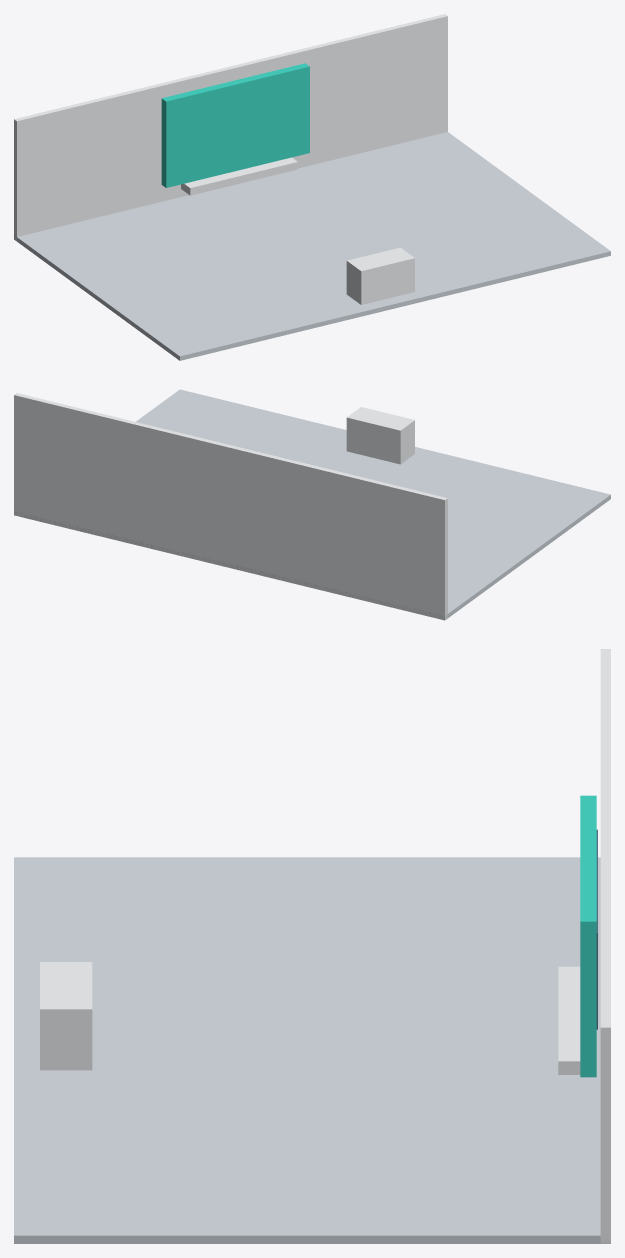
The picture shows the model from 3 angles, top to bottom: view 1: azimuth 30°, elevation 25°; view 2: azimuth 150°, elevation 25°; view 3: azimuth 270°, elevation 25°; orthographic projection. The views are drawn at different scales.
Parts seen in each view (by area): view 1: Exhibition Booth Concept; view 2: Exhibition Booth Concept; view 3: Exhibition Booth Concept.
Boxes of the visible parts, x1,y1,x2,y2 form: Exhibition Booth Concept: (14, 14, 610, 360); Exhibition Booth Concept: (14, 389, 610, 620); Exhibition Booth Concept: (14, 649, 610, 1243).
Size of the model in its own units: 12 by 3.2 by 8.
